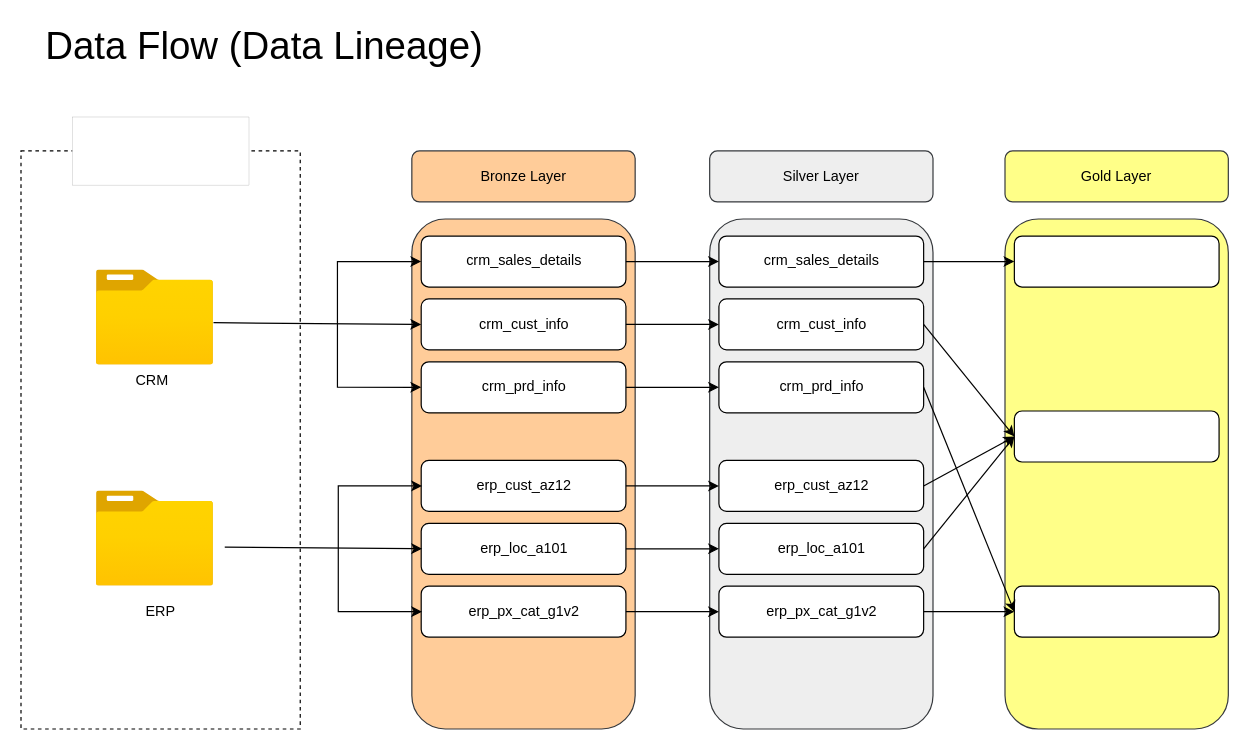
The diagram is 1250 pixels wide and 750 high, and some of its shapes have lost their labels. The shapes that lost their labels are listed below. From the top down, each one's centre as x and y in pixels, then its label:
(x=160, y=150): Source
(x=1116, y=261): fact_sales
(x=1116, y=436): dim_customers
(x=1116, y=611): dim_products
